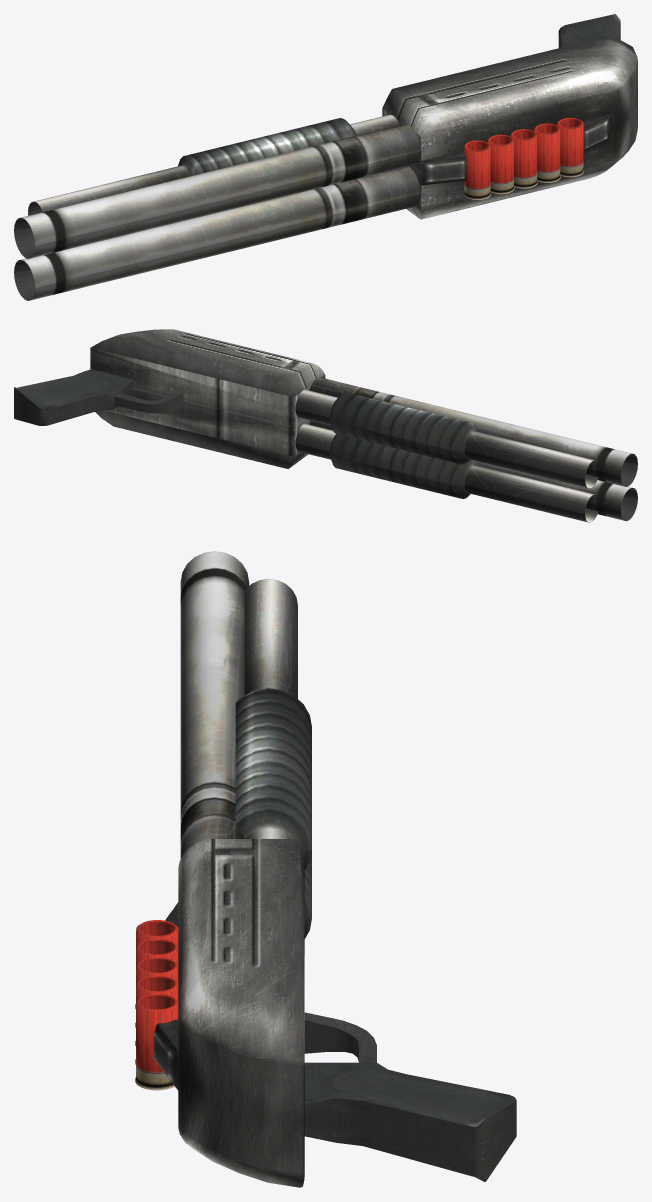
Rendered from PpdDbShotgunChr.obj.
The picture shows the model from 3 angles, top to bottom: view 1: azimuth 30°, elevation 25°; view 2: azimuth 150°, elevation 25°; view 3: azimuth 270°, elevation 25°; orthographic projection. The views are drawn at different scales.
Visible parts, largest first — view 1: node0; view 2: node0; view 3: node0.
Boxes of the visible parts, bbox=[...] form: node0: bbox=[14, 14, 637, 300]; node0: bbox=[14, 329, 637, 522]; node0: bbox=[135, 551, 516, 1187].
Size of the model in its own units: 584 by 90.45 by 176.
Materials: 2 (2 with a texture image).
